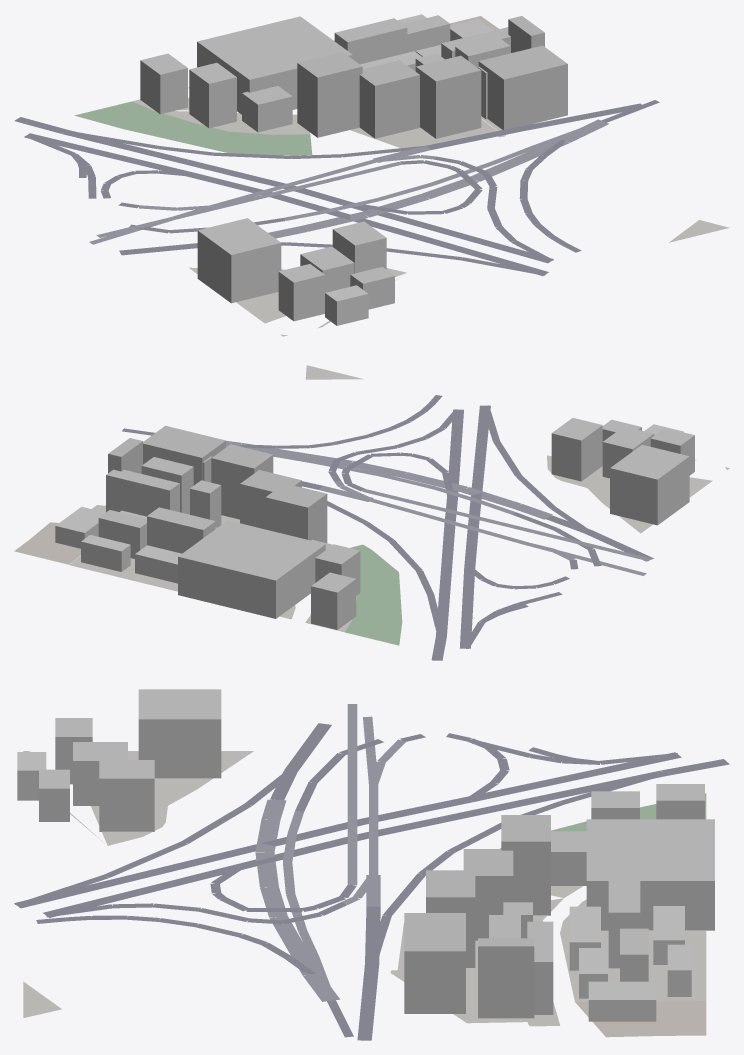
Rendered from 105_104_mid.glb.
3 renders of one model, top to bottom at view 1: azimuth 30°, elevation 25°; view 2: azimuth 150°, elevation 25°; view 3: azimuth 270°, elevation 25°, orthographic. The views are drawn at different scales.
Size of the model in its own units: 579 by 59.76 by 524.
